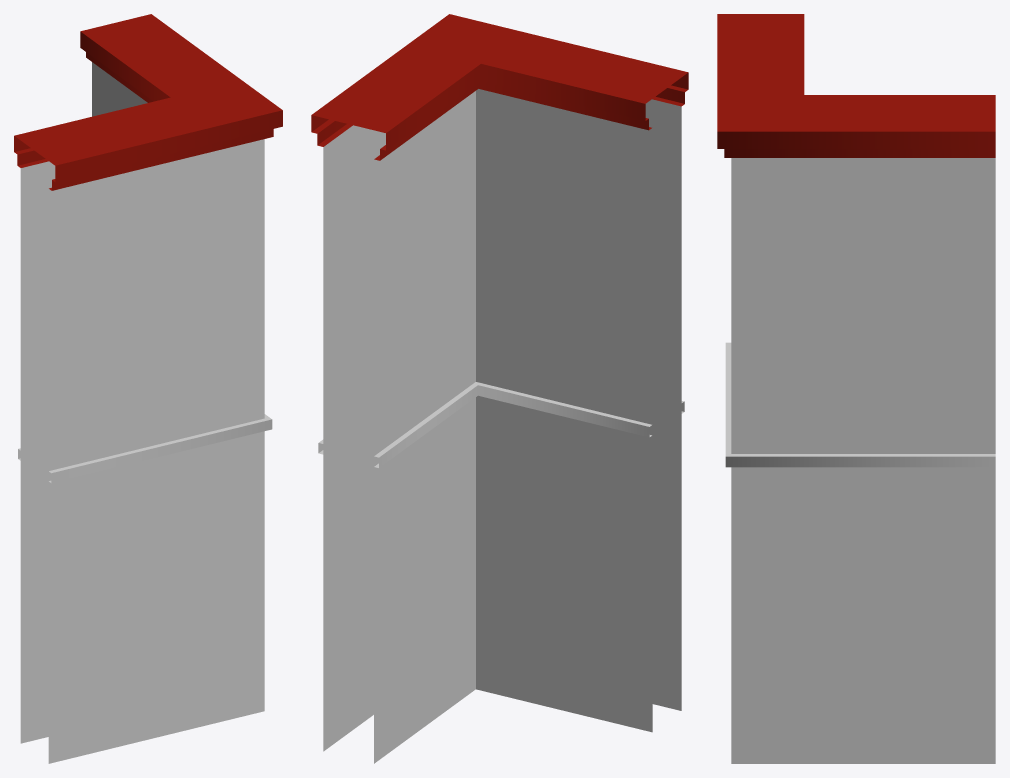
The model's file is SM_Wall_Corner_1x3_02.fbx.
The picture shows the model from 3 angles, left to right: view 1: azimuth 30°, elevation 25°; view 2: azimuth 150°, elevation 25°; view 3: azimuth 270°, elevation 25°; orthographic projection. The views are drawn at different scales.
Parts seen in each view (by area): view 1: Down_Wall_01, Up_Wall_04, SM_Wall_Corner_02, Up_Wall_01, Down_Wall_04, Up_Wall_02; view 2: Down_Wall_04, Up_Wall_01, Down_Wall_03, Up_Wall_02, SM_Wall_Corner_02, Up_Wall_03, Down_Wall_02, Up_Wall_04, Down_Wall_01; view 3: Down_Wall_02, Up_Wall_03, SM_Wall_Corner_02.
Boxes of the visible parts, x1=… form: Down_Wall_01: x1=48, y1=431, x2=264, y2=763; Up_Wall_04: x1=48, y1=139, x2=264, y2=475; SM_Wall_Corner_02: x1=14, y1=14, x2=282, y2=483; Up_Wall_01: x1=20, y1=161, x2=55, y2=455; Down_Wall_04: x1=20, y1=449, x2=48, y2=743; Up_Wall_02: x1=92, y1=62, x2=147, y2=116; Down_Wall_04: x1=476, y1=395, x2=652, y2=732; Up_Wall_01: x1=476, y1=89, x2=652, y2=429; Down_Wall_03: x1=374, y1=397, x2=475, y2=763; Up_Wall_02: x1=374, y1=91, x2=475, y2=461; SM_Wall_Corner_02: x1=311, y1=14, x2=688, y2=467; Up_Wall_03: x1=323, y1=125, x2=385, y2=448; Down_Wall_02: x1=323, y1=412, x2=373, y2=751; Up_Wall_04: x1=645, y1=99, x2=681, y2=408; Down_Wall_01: x1=652, y1=402, x2=681, y2=710; Down_Wall_02: x1=731, y1=467, x2=995, y2=763; Up_Wall_03: x1=731, y1=158, x2=995, y2=453; SM_Wall_Corner_02: x1=717, y1=14, x2=995, y2=467.
Bounding box in the file's own units: 46.65 × 118 × 46.65.
